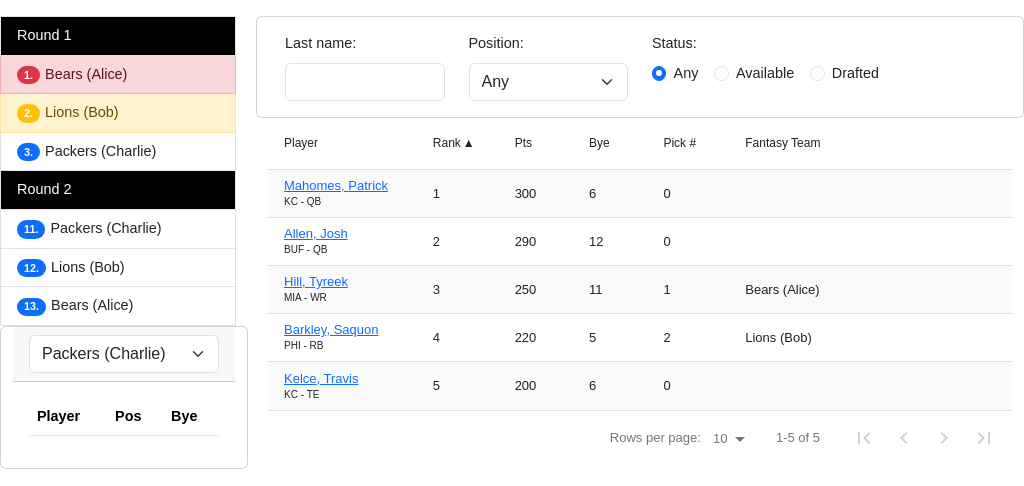
Test: Players › filtering › filter by availability narrows displayed players
Click the radio button labelled "Available" at (722, 73), box [714,66,729,81]
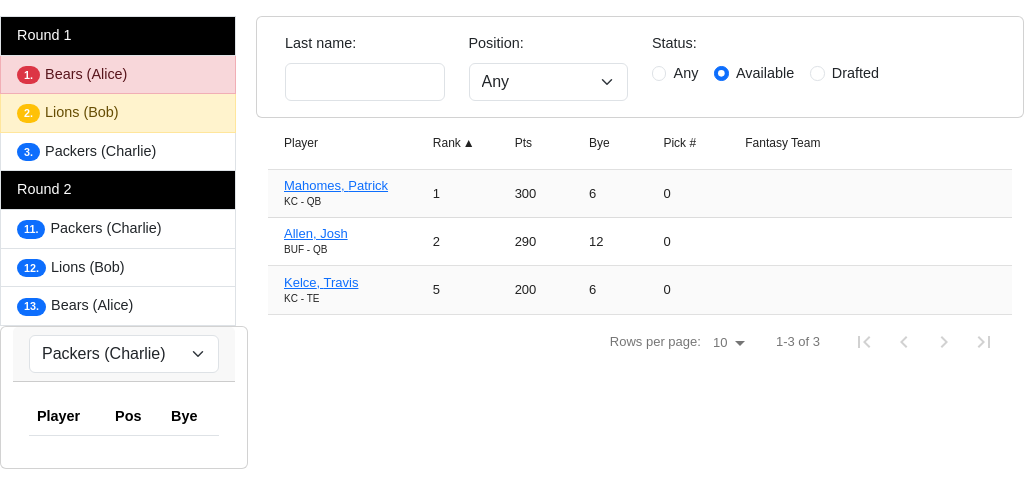
Expected: the link "Mahomes, Patrick" is shown, [284,178,388,193]
Result: the link "Hill" is gone
Result: the link "Barkley" is gone
